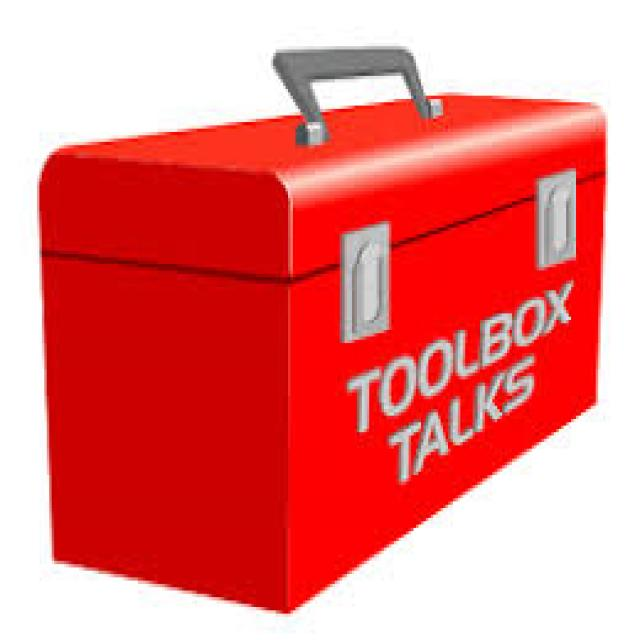tool_box: (37, 46, 610, 617)
